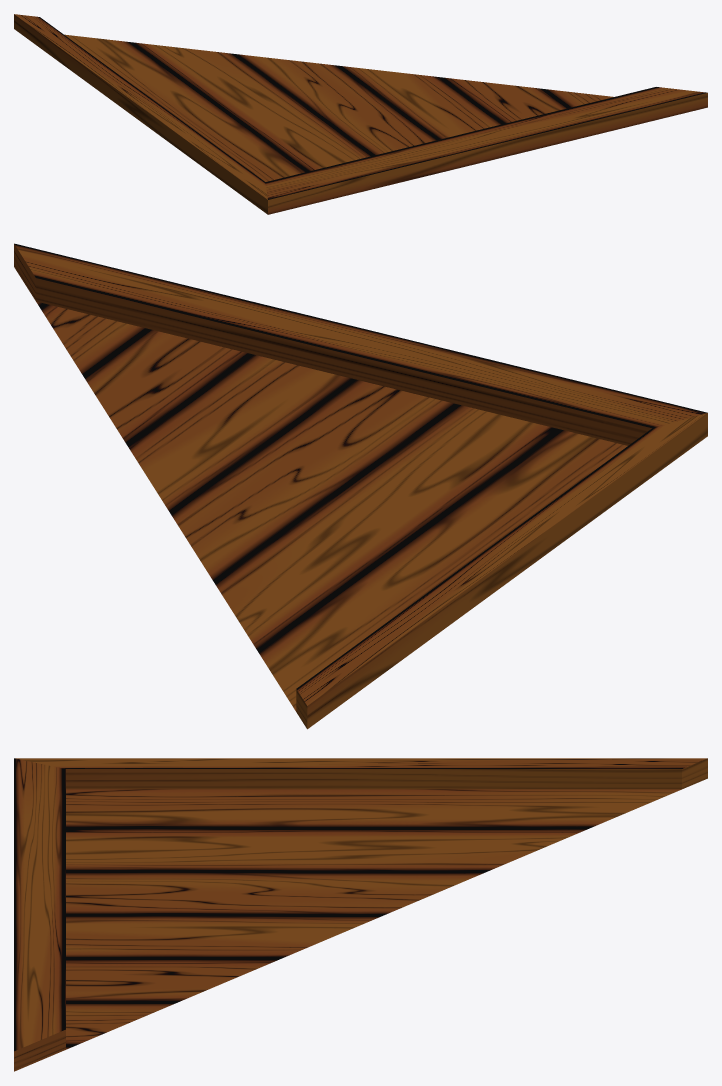
File: MTile_18.fbx
3 views of the same model, one above another, from view 1: azimuth 30°, elevation 25°; view 2: azimuth 150°, elevation 25°; view 3: azimuth 270°, elevation 25° (orthographic). The views are drawn at different scales.
Parts seen in each view (by area): view 1: MTile_18; view 2: MTile_18; view 3: MTile_18.
Boxes of the visible parts, x1,y1,x2,y2 form: MTile_18: (14,14,707,214); MTile_18: (14,243,707,729); MTile_18: (14,758,707,1071).
Bounding box in the file's own units: 255 × 8.22 × 255.
